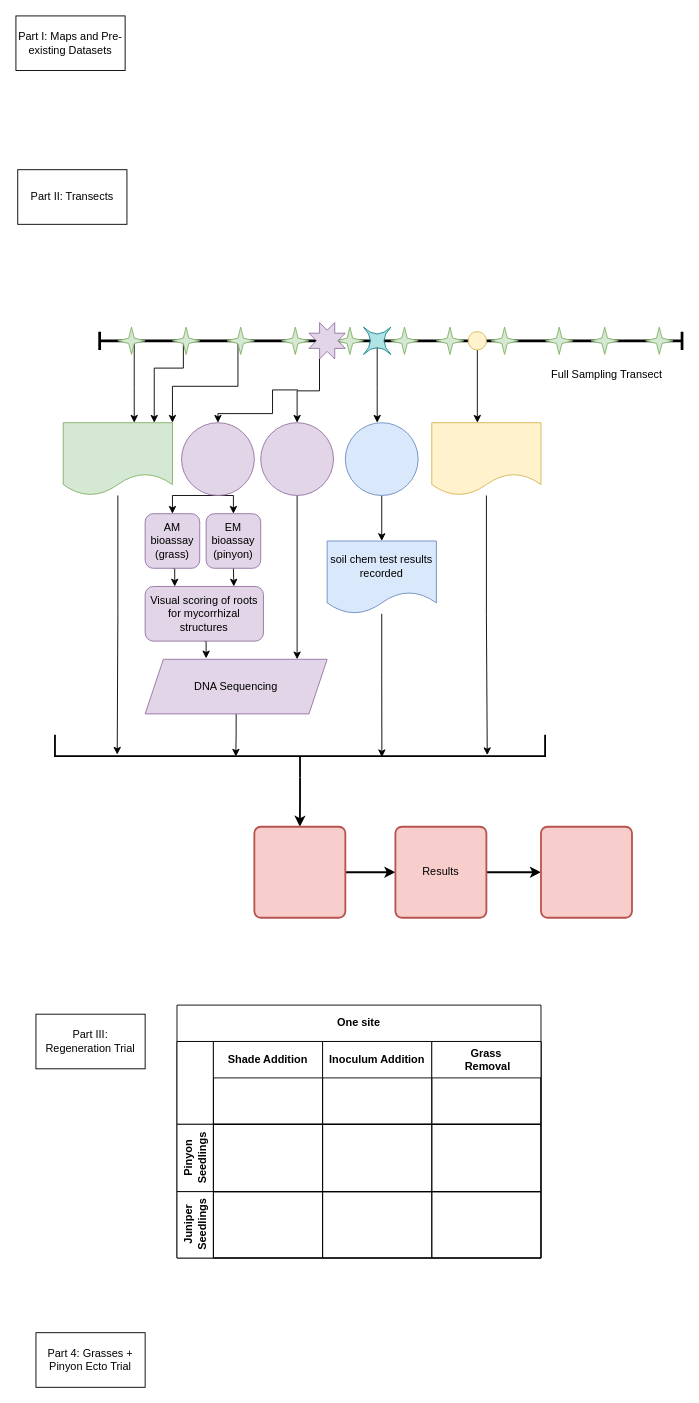
This 699x1403 diagram has some shape labels left out. Here are the shapes that lost their labels. From the top down, the centre of each, then its label:
At (117,458): "Veg and Biocrust data recorded".
At (217,458): "soil put in pots for bioassay".
At (297,458): "soil samples frozen for illumina seq.".
At (381,458): "soil chem tests conducted in field".
At (486,458): "Climate Sensor Data recorded".
At (299,871): "Data Analysis".
At (586,871): "Interpretation".
